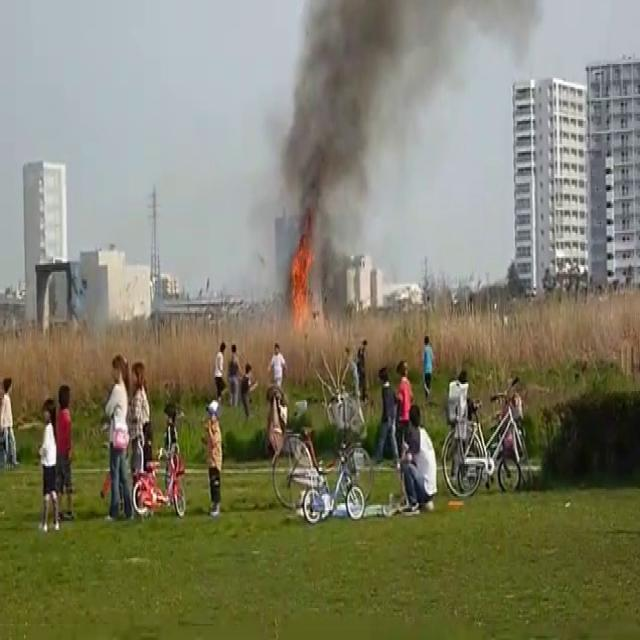Fire: (282, 230, 322, 332)
Smoke: (266, 0, 434, 299)
